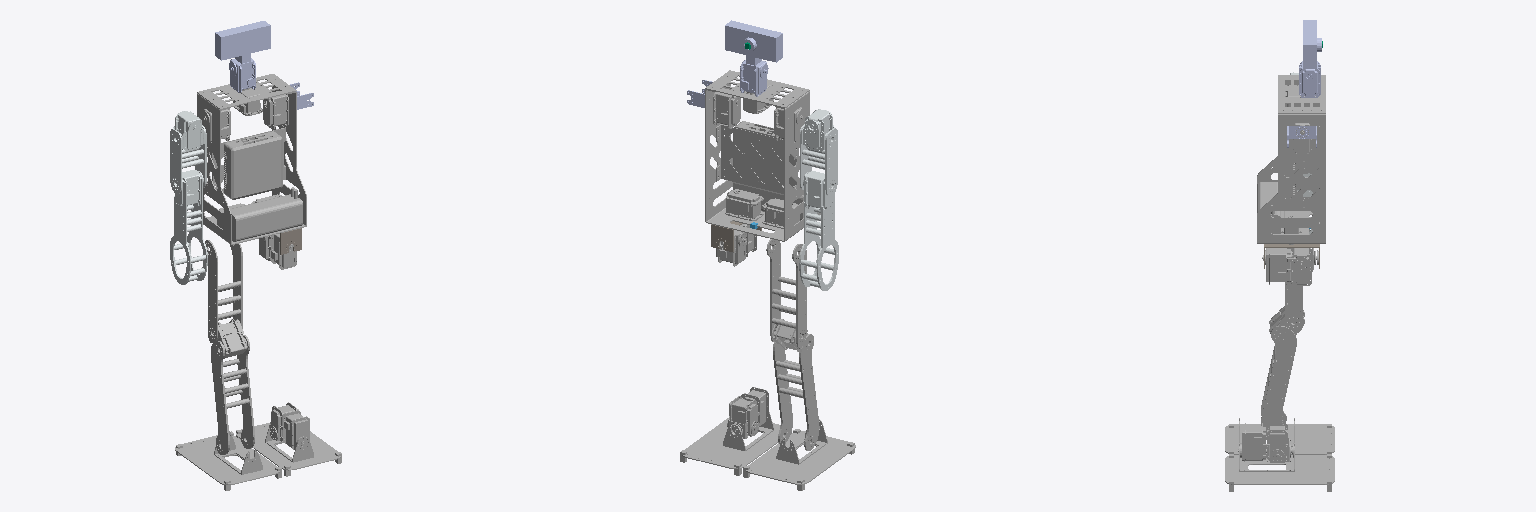
--- Render facts (derived) ---
3 views of the same robot in one strip: view 1: azimuth 30°, elevation 25°; view 2: azimuth 150°, elevation 25°; view 3: azimuth 270°, elevation 25° (orthographic).
Robot: SAKURA — 32 links, 31 joints (8 revolute, 20 continuous, 2 fixed, 1 floating); root link world; default pose: every joint at zero.
Links seen in each view (by area): view 1: TRUNK, LLEG2, LLEG3, LARM2, LFOOT, LARM1, RFOOT, HEAD1, RLEG4, RLEG1, HEAD0; view 2: TRUNK, LFOOT, LARM2, LLEG3, LLEG2, RFOOT, LARM1, HEAD1, RLEG4, RLEG1, HEAD0, RLEG0; view 3: TRUNK, RFOOT, LLEG3, LFOOT, RLEG4, RLEG1, LLEG2, HEAD1, HEAD0.
Link boxes in pixels (x1=…): TRUNK: x1=197, y1=74, x2=306, y2=244; LLEG2: x1=205, y1=240, x2=247, y2=358; LLEG3: x1=211, y1=335, x2=254, y2=454; LARM2: x1=170, y1=170, x2=207, y2=284; LFOOT: x1=175, y1=431, x2=279, y2=484; LARM1: x1=170, y1=111, x2=206, y2=193; RFOOT: x1=236, y1=422, x2=340, y2=470; HEAD1: x1=215, y1=21, x2=270, y2=63; RLEG4: x1=270, y1=402, x2=309, y2=449; RLEG1: x1=259, y1=234, x2=296, y2=269; HEAD0: x1=229, y1=58, x2=255, y2=92; TRUNK: x1=705, y1=70, x2=820, y2=241; LFOOT: x1=746, y1=419, x2=855, y2=484; LARM2: x1=799, y1=171, x2=838, y2=290; LLEG3: x1=773, y1=334, x2=819, y2=450; LLEG2: x1=766, y1=239, x2=808, y2=351; RFOOT: x1=682, y1=412, x2=791, y2=468; LARM1: x1=800, y1=109, x2=837, y2=196; HEAD1: x1=725, y1=20, x2=782, y2=65; RLEG4: x1=727, y1=387, x2=768, y2=438; RLEG1: x1=716, y1=224, x2=756, y2=266; HEAD0: x1=740, y1=60, x2=768, y2=96; RLEG0: x1=711, y1=221, x2=761, y2=251; TRUNK: x1=1257, y1=75, x2=1325, y2=244; RFOOT: x1=1225, y1=443, x2=1334, y2=484; LLEG3: x1=1261, y1=314, x2=1296, y2=435; LFOOT: x1=1225, y1=418, x2=1334, y2=454; RLEG4: x1=1238, y1=423, x2=1293, y2=462; RLEG1: x1=1262, y1=248, x2=1318, y2=285; LLEG2: x1=1269, y1=229, x2=1309, y2=337; HEAD1: x1=1303, y1=20, x2=1321, y2=68; HEAD0: x1=1299, y1=61, x2=1320, y2=97.
Bounding box of the posed robot: 0.2935 × 0.208 × 0.8933 m (x, y, z).
13 mesh visuals loaded from 21 distinct referenced files (13 binary STL); not drawn: 8 (reference not matched to a file when rendering).

URDF robot description (SAKURA):
<?xml version="1.0"?>
<robot
  name="SAKURA">	
    <!-- camera -->
  <gazebo reference="camera_link">
    <sensor type="camera" name="camera">
      <update_rate>30.0</update_rate>
      <camera name="head">
        <horizontal_fov>1.3962634</horizontal_fov>
        <image>
          <width>800</width>
          <height>800</height>
          <format>R8G8B8</format>
        </image>
        <clip>
          <near>0.02</near>
          <far>300</far>
        </clip>
        <noise>
          <type>gaussian</type>
          <!-- Noise is sampled independently per pixel on each frame.
               That pixel's noise value is added to each of its color
               channels, which at that point lie in the range [0,1]. -->
          <mean>0.0</mean>
          <stddev>0.007</stddev>
        </noise>
      </camera>
      <plugin name="camera_controller" filename="libgazebo_ros_camera.so">
        <alwaysOn>true</alwaysOn>
        <updateRate>0.0</updateRate>
        <cameraName>humanoid/camera</cameraName>
        <imageTopicName>image_raw</imageTopicName>
        <cameraInfoTopicName>camera_info</cameraInfoTopicName>
        <frameName>camera_link</frameName>
        <hackBaseline>0.07</hackBaseline>
        <distortionK1>0.0</distortionK1>
        <distortionK2>0.0</distortionK2>
        <distortionK3>0.0</distortionK3>
        <distortionT1>0.0</distortionT1>
        <distortionT2>0.0</distortionT2>
      </plugin>
    </sensor>
  </gazebo>
  
  <gazebo reference="imu_link">
    <gravity>true</gravity>
    <sensor name="imu_sensor" type="imu">
      <always_on>true</always_on>
      <update_rate>125</update_rate>
      <visualize>true</visualize>
      <topic>__default_topic__</topic>
      <plugin filename="libgazebo_ros_imu_sensor.so" name="imu_plugin">
        <topicName>imu/data_raw</topicName>
        <bodyName>imu_link</bodyName>
        <updateRateHZ>125.0</updateRateHZ>
        <gaussianNoise>0.0</gaussianNoise>
        <xyzOffset>0 0 0</xyzOffset>
        <rpyOffset>0 0 0</rpyOffset>
        <frameName>imu_link</frameName>
      </plugin>
      <pose>0 0 0 0 0 0</pose>
    </sensor>
  </gazebo>
  <gazebo>
    <plugin filename="libgazebo_ros_control.so" name="gazebo_ros_control">
      <robotNamespace>/SAKURA</robotNamespace>
      <robotSimType>gazebo_ros_control/DefaultRobotHWSim</robotSimType>
    </plugin>
  </gazebo>
<gazebo reference="J_HEAD0">
	<stopErp>0.2</stopErp>
  </gazebo>  
  <gazebo reference="J_HEAD1">
	<stopErp>0.2</stopErp>
  </gazebo>  
  <gazebo reference="J_LARM0">
	<stopErp>0.2</stopErp>
  </gazebo>  
  <gazebo reference="J_LARM1">
	<stopErp>0.2</stopErp>
  </gazebo>  
  <gazebo reference="J_LARM2">
	<stopErp>0.2</stopErp>
  </gazebo>  
  <gazebo reference="J_RARM0">
	<stopErp>0.2</stopErp>
  </gazebo>  
  <gazebo reference="J_RARM1">
	<stopErp>0.2</stopErp>
  </gazebo>  
  <gazebo reference="J_LLEG0">
	<stopErp>0.2</stopErp>
	<provideFeedback>true</provideFeedback>
  </gazebo>  
  <gazebo reference="J_LLEG1">
	<stopErp>0.2</stopErp>
	<provideFeedback>true</provideFeedback>
  </gazebo>  
  <gazebo reference="J_LLEG2">
	<stopErp>0.2</stopErp>
	<provideFeedback>true</provideFeedback>
  </gazebo>  
  <gazebo reference="J_LLEG3">
	<stopErp>0.2</stopErp>
	<provideFeedback>true</provideFeedback>
  </gazebo>  
  <gazebo reference="J_LLEG4">
	<stopErp>0.2</stopErp>
	<provideFeedback>true</provideFeedback>
  </gazebo>  
  <gazebo reference="J_RLEG0">
	<stopErp>0.2</stopErp>
	<provideFeedback>true</provideFeedback>
  </gazebo>  
  <gazebo reference="J_RLEG1">
	<stopErp>0.2</stopErp>
	<provideFeedback>true</provideFeedback>
  </gazebo>  
  <gazebo reference="J_RLEG2">
	<stopErp>0.2</stopErp>
	<provideFeedback>true</provideFeedback>
  </gazebo>  
  <gazebo reference="J_RLEG3">
	<stopErp>0.2</stopErp>
	<provideFeedback>true</provideFeedback>
  </gazebo>  
  <gazebo reference="J_RLEG4">
	<stopErp>0.2</stopErp>
	<provideFeedback>true</provideFeedback>
  </gazebo> 
  <gazebo reference="J_RARM2">
	<stopErp>0.2</stopErp>
	<provideFeedback>true</provideFeedback>
  </gazebo> 
  <gazebo reference="J_LFOOT">
	<stopErp>0.2</stopErp>
	<provideFeedback>true</provideFeedback>
  </gazebo>  
  <gazebo reference="J_RFOOT">
	<stopErp>0.2</stopErp>
	<provideFeedback>true</provideFeedback>
  </gazebo>  
  <gazebo reference="J_RFOOT_SENSOR0">
	<provideFeedback>true</provideFeedback>
  </gazebo>  
  <gazebo reference="J_RFOOT_SENSOR1">
	<provideFeedback>true</provideFeedback>
  </gazebo>
  <gazebo reference="J_RFOOT_SENSOR2">
	<provideFeedback>true</provideFeedback>
  </gazebo>
  <gazebo reference="J_RFOOT_SENSOR3">
	<provideFeedback>true</provideFeedback>
  </gazebo>
  <gazebo reference="J_LFOOT_SENSOR0">
	<provideFeedback>true</provideFeedback>
  </gazebo>  
  <gazebo reference="J_LFOOT_SENSOR1">
	<provideFeedback>true</provideFeedback>
  </gazebo>
  <gazebo reference="J_LFOOT_SENSOR2">
	<provideFeedback>true</provideFeedback>
  </gazebo>
  <gazebo reference="J_LFOOT_SENSOR3">
	<provideFeedback>true</provideFeedback>
  </gazebo>
  <gazebo reference="TRUNK">
    <mu1>1.0</mu1>
    <mu2>1.0</mu2>
    <kp>1220000.0</kp>
    <kd>1.0</kd> <!---->
  </gazebo>
  <gazebo reference="RFOOT">
    <mu1>1.0</mu1>
    <mu2>1.0</mu2>
    <kp>1220000.0</kp>
    <kd>1.0</kd> <!---->
  </gazebo>
  <gazebo reference="LFOOT">
    <mu1>1.0</mu1>
    <mu2>1.0</mu2>
    <kp>1220000.0</kp>
    <kd>1.0</kd> <!---->
  </gazebo>  
<!-- FT SENSORS -->
<!--  <gazebo>
	<plugin name="ft_sensor" filename="libgazebo_ros_ft_sensor.so">
	  <updateRate>100.0</updateRate>
	  <topicName>ft_sensor_head0</topicName>
	  <jointName>J_HEAD0</jointName>
	</plugin>
  </gazebo>
  <gazebo>
	<plugin name="ft_sensor" filename="libgazebo_ros_ft_sensor.so">
	  <updateRate>100.0</updateRate>
	  <topicName>ft_sensor_head1</topicName>
	  <jointName>J_HEAD1</jointName>
	</plugin>
  </gazebo>

  <gazebo>
	<plugin name="ft_sensor" filename="libgazebo_ros_ft_sensor.so">
	  <updateRate>100.0</updateRate>
	  <topicName>ft_sensor_larm0</topicName>
	  <jointName>J_LARM0</jointName>
	</plugin>
  </gazebo>
  <gazebo>
	<plugin name="ft_sensor" filename="libgazebo_ros_ft_sensor.so">
	  <updateRate>100.0</updateRate>
	  <topicName>ft_sensor_larm1</topicName>
	  <jointName>J_LARM1</jointName>
	</plugin>
  </gazebo>
  <gazebo>
	<plugin name="ft_sensor" filename="libgazebo_ros_ft_sensor.so">
	  <updateRate>100.0</updateRate>
	  <topicName>ft_sensor_larm2</topicName>
	  <jointName>J_LARM2</jointName>
	</plugin>
  </gazebo>
  
  
    <gazebo>
	<plugin name="ft_sensor" filename="libgazebo_ros_ft_sensor.so">
	  <updateRate>100.0</updateRate>
	  <topicName>ft_sensor_rarm0</topicName>
	  <jointName>J_RARM0</jointName>
	</plugin>
  </gazebo>
  <gazebo>
	<plugin name="ft_sensor" filename="libgazebo_ros_ft_sensor.so">
	  <updateRate>100.0</updateRate>
	  <topicName>ft_sensor_rarm1</topicName>
	  <jointName>J_RARM1</jointName>
	</plugin>
  </gazebo>
  <gazebo>
	<plugin name="ft_sensor" filename="libgazebo_ros_ft_sensor.so">
	  <updateRate>100.0</updateRate>
	  <topicName>ft_sensor_rarm2</topicName>
	  <jointName>J_RARM2</jointName>
	</plugin>
  </gazebo>
  
  
  
  <gazebo>
	<plugin name="ft_sensor" filename="libgazebo_ros_ft_sensor.so">
	  <updateRate>100.0</updateRate>
	  <topicName>ft_sensor_lleg0</topicName>
	  <jointName>J_LLEG0</jointName>
	</plugin>
  </gazebo>
    <gazebo>
	<plugin name="ft_sensor" filename="libgazebo_ros_ft_sensor.so">
	  <updateRate>100.0</updateRate>
	  <topicName>ft_sensor_lleg1</topicName>
	  <jointName>J_LLEG1</jointName>
	</plugin>
  </gazebo>
    <gazebo>
	<plugin name="ft_sensor" filename="libgazebo_ros_ft_sensor.so">
	  <updateRate>100.0</updateRate>
	  <topicName>ft_sensor_lleg2</topicName>
	  <jointName>J_LLEG2</jointName>
	</plugin>
  </gazebo>
    <gazebo>
	<plugin name="ft_sensor" filename="libgazebo_ros_ft_sensor.so">
	  <updateRate>100.0</updateRate>
	  <topicName>ft_sensor_lleg3</topicName>
	  <jointName>J_LLEG3</jointName>
	</plugin>
  </gazebo>
    <gazebo>
	<plugin name="ft_sensor" filename="libgazebo_ros_ft_sensor.so">
	  <updateRate>100.0</updateRate>
	  <topicName>ft_sensor_lleg4</topicName>
	  <jointName>J_LLEG4</jointName>
	</plugin>
  </gazebo>
    <gazebo>
	<plugin name="ft_sensor" filename="libgazebo_ros_ft_sensor.so">
	  <updateRate>100.0</updateRate>
	  <topicName>ft_sensor_lfoot</topicName>
	  <jointName>J_LFOOT</jointName>
	</plugin>
  </gazebo>
  
    <gazebo>
	<plugin name="ft_sensor" filename="libgazebo_ros_ft_sensor.so">
	  <updateRate>100.0</updateRate>
	  <topicName>ft_sensor_rleg0</topicName>
	  <jointName>J_RLEG0</jointName>
	</plugin>
  </gazebo>
    <gazebo>
	<plugin name="ft_sensor" filename="libgazebo_ros_ft_sensor.so">
	  <updateRate>100.0</updateRate>
	  <topicName>ft_sensor_rleg1</topicName>
	  <jointName>J_RLEG1</jointName>
	</plugin>
  </gazebo>
    <gazebo>
	<plugin name="ft_sensor" filename="libgazebo_ros_ft_sensor.so">
	  <updateRate>100.0</updateRate>
	  <topicName>ft_sensor_rleg2</topicName>
	  <jointName>J_RLEG2</jointName>
	</plugin>
  </gazebo>
    <gazebo>
	<plugin name="ft_sensor" filename="libgazebo_ros_ft_sensor.so">
	  <updateRate>100.0</updateRate>
	  <topicName>ft_sensor_rleg3</topicName>
	  <jointName>J_RLEG3</jointName>
	</plugin>
  </gazebo>
    <gazebo>
	<plugin name="ft_sensor" filename="libgazebo_ros_ft_sensor.so">
	  <updateRate>100.0</updateRate>
	  <topicName>ft_sensor_rleg4</topicName>
	  <jointName>J_RLEG4</jointName>
	</plugin>
  </gazebo>
    <gazebo>
	<plugin name="ft_sensor" filename="libgazebo_ros_ft_sensor.so">
	  <updateRate>100.0</updateRate>
	  <topicName>ft_sensor_rfoot</topicName>
	  <jointName>J_RFOOT</jointName>
	</plugin>
  </gazebo>
  
  -->
  
  <gazebo>
	<plugin name="ft_sensor" filename="libgazebo_ros_ft_sensor.so">
	  <updateRate>500.0</updateRate>
	  <topicName>ft_sensor_rSensor0</topicName>
	  <jointName>J_RFOOT_SENSOR0</jointName>
	</plugin>
	<plugin name="ft_sensor" filename="libgazebo_ros_ft_sensor.so">
	  <updateRate>500.0</updateRate>
	  <topicName>ft_sensor_rSensor1</topicName>
	  <jointName>J_RFOOT_SENSOR1</jointName>
	</plugin>
	<plugin name="ft_sensor" filename="libgazebo_ros_ft_sensor.so">
	  <updateRate>500.0</updateRate>
	  <topicName>ft_sensor_rSensor2</topicName>
	  <jointName>J_RFOOT_SENSOR2</jointName>
	</plugin>
	<plugin name="ft_sensor" filename="libgazebo_ros_ft_sensor.so">
	  <updateRate>500.0</updateRate>
	  <topicName>ft_sensor_rSensor3</topicName>
	  <jointName>J_RFOOT_SENSOR3</jointName>
	</plugin>
	<plugin name="ft_sensor" filename="libgazebo_ros_ft_sensor.so">
	  <updateRate>500.0</updateRate>
	  <topicName>ft_sensor_lSensor0</topicName>
	  <jointName>J_LFOOT_SENSOR0</jointName>
	</plugin>
	<plugin name="ft_sensor" filename="libgazebo_ros_ft_sensor.so">
	  <updateRate>500.0</updateRate>
	  <topicName>ft_sensor_lSensor1</topicName>
	  <jointName>J_LFOOT_SENSOR1</jointName>
	</plugin>
	<plugin name="ft_sensor" filename="libgazebo_ros_ft_sensor.so">
	  <updateRate>500.0</updateRate>
	  <topicName>ft_sensor_lSensor2</topicName>
	  <jointName>J_LFOOT_SENSOR2</jointName>
	</plugin>
	<plugin name="ft_sensor" filename="libgazebo_ros_ft_sensor.so">
	  <updateRate>500.0</updateRate>
	  <topicName>ft_sensor_lSensor3</topicName>
	  <jointName>J_LFOOT_SENSOR3</jointName>
	</plugin>
	<plugin name="ft_sensor" filename="libgazebo_ros_ft_sensor.so">
	  <updateRate>125.0</updateRate>
	  <topicName>ft_sensor_rleg3</topicName>
	  <jointName>J_RLEG3</jointName>
	</plugin>
	<plugin name="ft_sensor" filename="libgazebo_ros_ft_sensor.so">
	  <updateRate>125.0</updateRate>
	  <topicName>ft_sensor_lleg3</topicName>
	  <jointName>J_LLEG3</jointName>
	</plugin>
	
	<plugin name="ft_sensor" filename="libgazebo_ros_ft_sensor.so">
	  <updateRate>125.0</updateRate>
	  <topicName>ft_sensor_rleg4</topicName>
	  <jointName>J_RLEG4</jointName>
	</plugin>
	<plugin name="ft_sensor" filename="libgazebo_ros_ft_sensor.so">
	  <updateRate>125.0</updateRate>
	  <topicName>ft_sensor_lleg4</topicName>
	  <jointName>J_LLEG4</jointName>
	</plugin>
	
		<plugin name="ft_sensor" filename="libgazebo_ros_ft_sensor.so">
	  <updateRate>125.0</updateRate>
	  <topicName>ft_sensor_rfoot</topicName>
	  <jointName>J_RFOOT</jointName>
	</plugin>
	<plugin name="ft_sensor" filename="libgazebo_ros_ft_sensor.so">
	  <updateRate>125.0</updateRate>
	  <topicName>ft_sensor_lfoot</topicName>
	  <jointName>J_LFOOT</jointName>
	</plugin>
  </gazebo>
  

  <link name="world">  </link>
  
  <link name="imu_link">
    <collision>
      <origin xyz="0 0 0" rpy="0 0 0"/>
      <geometry>
    <box size="0.01 0.01 0.01"/>
      </geometry>
    </collision>

    <visual>
      <origin xyz="0 0 0" rpy="0 0 0"/>
      <geometry>
    <box size="0.01 0.01 0.01"/>
      </geometry>

    </visual>

    <inertial>
      <mass value="1e-3" />
      <origin xyz="0 0 0" rpy="0 0 0"/>
      <inertia ixx="1e-3" ixy="0" ixz="0" iyy="1e-3" iyz="0" izz="1e-3" />
    </inertial>
  </link>
  <joint name="imu_joint" type="fixed">
    <axis xyz="-1 0 0" />
    <origin xyz="0 0 0" rpy="0 0 0"/>
    <parent link="TRUNK"/>
    <child link="imu_link"/>
  </joint>
  
  
   <!-- Camera -->
  <link name="camera_link">
    <visual>
      <origin xyz="0 0 0" rpy="0 0 0"/>
      <geometry>
    <box size="0.01 0.01 0.01"/>
      </geometry>

    </visual>

    <inertial>
      <mass value="1e-3" />
      <origin xyz="0 0 0" rpy="0 0 0"/>
      <inertia ixx="1e-3" ixy="0" ixz="0" iyy="1e-3" iyz="0" izz="1e-3" />
    </inertial>
  </link>
  
  <joint name="camera_joint" type="fixed">
    <axis xyz="0 0 1" />
    <origin xyz="0.02 0.055 0.00" rpy="-1.5707 0 0"/>
    <parent link="HEAD1"/>
    <child link="camera_link"/>
  </joint>

  
  
  
  <link
    name="TRUNK">
    <inertial>
      <origin
        xyz="-0.000142944293532541 -0.0159940135836359 0.119253638413231"
        rpy="0 0 0" />
      <mass
        value="1.4778155091901" />
      <inertia
        ixx="0.0125398154437975"
        ixy="0"
        ixz="0"
        iyy="0.016695640033345"
        iyz="0.000776177026664091"
        izz="0.01567882258573842" />
    </inertial>
    <visual>
      <origin
        xyz="0 0 0"
        rpy="0 0 0" />
      <geometry>
        <mesh
          filename="package://sakura_description/meshes/TRUNK.STL" />
      </geometry>
      <material
        name="">
        <color
          rgba="0.752941176470588 0.752941176470588 0.752941176470588 1" />
      </material>
    </visual>
  </link>
  <joint name="fixed" type="floating">
    <parent link="world"/>
    <child link="TRUNK"/>
    <origin xyz="0 0 0.50" rpy="0 0 0"/>
  </joint>
  <link
    name="HEAD0">
    <inertial>
      <origin
        xyz="0 -0.00045169 0.0273"
        rpy="0 0 0" />
      <mass
        value="0.072495" />
      <inertia ixx="1e-3" ixy="0" ixz="0" iyy="1e-3" iyz="0" izz="1e-3" />
    </inertial>
    <visual>
      <origin
        xyz="0 0 0"
        rpy="0 0 0" />
      <geometry>
        <mesh
          filename="package://sakura_description/meshes/HEAD0.STL" />
      </geometry>
      <material
        name="">
        <color
          rgba="0.79216 0.81961 0.93333 1" />
      </material>
    </visual>
  </link>
  <link
    name="HEAD1">
    <inertial>
      <origin
        xyz="0.000492167176094648 0.0499545659310894 0"
        rpy="0 0 0" />
      <mass
        value="0.160467558648652" />
      <inertia ixx="1e-3" ixy="0" ixz="0" iyy="1e-3" iyz="0" izz="1e-3" />
    </inertial>
    <visual>
      <origin
        xyz="0 0 0"
        rpy="0 0 0" />
      <geometry>
        <mesh
          filename="package://sakura_description/meshes/HEAD1.STL" />
      </geometry>
      <material
        name="">
        <color
          rgba="0.792156862745098 0.819607843137255 0.933333333333333 1" />
      </material>
    </visual>
  </link>

  
  <joint
    name="J_HEAD0"
    type="continuous">
    <origin
      xyz="0 0.002 0.2785"
      rpy="0 0 -1.5708" />
    <parent
      link="TRUNK" />
    <child
      link="HEAD0" />
    <axis
      xyz="0 0 1" />
    <limit
      effort="10"
      velocity="8.58" />
    <dynamics 
	  damping="0.7"
	  friction="0.5"/>
  </joint>
  
  <joint
    name="J_HEAD1"
    type="continuous">
    <origin
      xyz="0 -0.0005 0.0425"
      rpy="1.5708 0 3.1416" />
    <parent
      link="HEAD0" />
    <child
      link="HEAD1" />
    <axis
      xyz="0 0 -1" />
    <limit
      effort="10"
      velocity="8.58" />
    <dynamics 
	  damping="0.7"
	  friction="0.5"/>
  </joint>
  
  <link
    name="LARM0">
    <inertial>
      <origin
        xyz="0 0 0.0103025666414173"
        rpy="0 0 0" />
      <mass
        value="0.0066175226097181" />
      <inertia
        ixx="1.E-03"
        ixy="0"
        ixz="0"
        iyy="1.E-03"
        iyz="0"
        izz="1.E-03" />
    </inertial>
    <visual>
      <origin
        xyz="0 0 0"
        rpy="0 0 0" />
      <geometry>
        <mesh
          filename="package://sakura_description/meshes/LARM0.STL" />
      </geometry>
      <material
        name="">
        <color
          rgba="0.792156862745098 0.819607843137255 0.933333333333333 1" />
      </material>
    </visual>
  </link>
  <joint
    name="J_LARM0"
    type="continuous">
    <origin
      xyz="-0.094 -0.0125 0.237"
      rpy="1.5708 3.14159 -1.5708" />
    <parent
      link="TRUNK" />
    <child
      link="LARM0" />
    <axis
      xyz="0 0 1" />
    <limit
      effort="10"
      velocity="8.58" />
    <dynamics 
     damping="0.7"
     friction="0.5"/>
  </joint>
  <link
    name="LARM1">
    <inertial>
      <origin
        xyz="-0.000203905909046856 -0.0358166170046635 -0.030724518771744"
        rpy="0 0 0" />
      <mass
        value="0.386889741732442" />
      <inertia
        ixx="0.001319462933467775"
        ixy="0"
        ixz="0"
        iyy="0.001"
        iyz="0"
        izz="0.001386423060557297" />
    </inertial>
    <visual>
      <origin
        xyz="0 0 0"
        rpy="0 0 0" />
      <geometry>
        <mesh
          filename="package://sakura_description/meshes/LARM1.STL" />
      </geometry>
      <material
        name="">
        <color
          rgba="0.898039215686275 0.92156862745098 0.929411764705882 1" />
      </material>
    </visual>
  </link>
  <joint
    name="J_LARM1"
    type="continuous">
    <origin
      xyz="-0.0308 0 0.036"
      rpy="3.1416 1.5708 0" />
    <parent
      link="LARM0" />
    <child
      link="LARM1" />
    <axis
      xyz="0 0 -1" />
    <limit
      effort="10"
      velocity="8.58" />
        <dynamics 
     damping="0.7"
     friction="0.5"/>
  </joint>
  <link
    name="LARM2">
    <inertial>
      <origin
        xyz="-0.000946892853796732 -0.0604743903550126 -0.030549305382329"
        rpy="0 0 0" />
      <mass
        value="0.417770884687889" />
      <inertia
        ixx="0.00130365609096481"
        ixy="0"
        ixz="0"
        iyy="0.001"
        iyz="0"
        izz="0.00130522583526536" />
    </inertial>
    <visual>
      <origin
        xyz="0 0 0"
        rpy="0 0 0" />
      <geometry>
        <mesh
          filename="package://sakura_description/meshes/LARM2.STL" />
      </geometry>
      <material
        name="">
        <color
          rgba="0.898039215686275 0.92156862745098 0.929411764705882 1" />
      </material>
    </visual>
  </link>
  <joint
    name="J_LARM2"
    type="continuous">
    <origin
      xyz="0.0307 -0.1235 -0.0308"
      rpy="0 1.5708 0" />
    <parent
      link="LARM1" />
    <child
      link="LARM2" />
    <axis
      xyz="0 0 -1" />
    <limit
      effort="10"
      velocity="8.58" />
        <dynamics 
     damping="0.7"
     friction="0.5"/>
  </joint>
  <link
    name="RARM0">
    <inertial>
      <origin
        xyz="0 0 0.0103025666414173"
        rpy="0 0 0" />
      <mass
        value="0.00661752260971814" />
      <inertia
        ixx="1.E-03"
        ixy="0"
        ixz="0"
        iyy="1.E-03"
        iyz="0"
        izz="1.E-03" />
    </inertial>
    <visual>
      <origin
        xyz="0 0 0"
        rpy="0 0 0" />
      <geometry>
        <mesh
          filename="package://sakura_description/meshes/RARM0.STL" />
      </geometry>
      <material
        name="">
        <color
          rgba="0.792156862745098 0.819607843137255 0.933333333333333 1" />
      </material>
    </visual>
  </link>
  <joint
    name="J_RARM0"
    type="continuous">
    <origin
      xyz="0.094 -0.0125 0.237"
      rpy="-1.5708 0 -1.5708" />
    <parent
      link="TRUNK" />
    <child
      link="RARM0" />
    <axis
      xyz="0 0 1" />
    <limit
      effort="10"
      velocity="8.58" />
        <dynamics 
     damping="0.7"
     friction="0.5"/>
  </joint>
  <link
    name="RARM1">
    <inertial>
      <origin
        xyz="-0.00020391 -0.035817 -0.030725"
        rpy="0 0 0" />
      <mass
        value="0.38689" />
      <inertia
        ixx="0.00131946"
        ixy="0"
        ixz="0"
        iyy="0.001"
        iyz="0"
        izz="0.00138642" />
    </inertial>
    <visual>
      <origin
        xyz="0 0 0"
        rpy="0 0 0" />
      <geometry>
        <mesh
          filename="package://sakura_description/meshes/RARM1.STL" />
      </geometry>
      <material
        name="">
        <color
          rgba="0.89804 0.92157 0.92941 1" />
      </material>
    </visual>
  </link>
  <joint
    name="J_RARM1"
    type="continuous">
    <origin
      xyz="-0.0308 0 0.036"
      rpy="3.1416 1.5708 0" />
    <parent
      link="RARM0" />
    <child
      link="RARM1" />
    <axis
      xyz="0 0 1" />
    <limit
      effort="10"
      velocity="8.58" />
        <dynamics 
     damping="0.7"
     friction="0.5"/>
  </joint>
  <link
    name="RARM2">
    <inertial>
      <origin
        xyz="-0.000946892853796774 -0.0604743903550127 -0.0305493053823289"
        rpy="0 0 0" />
      <mass
        value="0.417770884687889" />
      <inertia
        ixx="0.00130365609096481"
        ixy="0"
        ixz="0"
        iyy="0.001"
        iyz="0"
        izz="0.00130522583526536" />
    </inertial>
    <visual>
      <origin
        xyz="0 0 0"
        rpy="0 0 0" />
      <geometry>
        <mesh
          filename="package://sakura_description/meshes/RARM2.STL" />
      </geometry>
      <material
        name="">
        <color
          rgba="0.898039215686275 0.92156862745098 0.929411764705882 1" />
      </material>
    </visual>
  </link>
  <joint
    name="J_RARM2"
    type="continuous">
    <origin
      xyz="0.0307 -0.1235 -0.0308"
      rpy="0 1.5708 0" />
    <parent
      link="RARM1" />
    <child
      link="RARM2" />
    <axis
      xyz="0 0 -1" />
    <limit
      effort="10"
      velocity="8.58" />
        <dynamics 
     damping="0.7"
     friction="0.5"/>
  </joint>
  <link
    name="LLEG0">
    <inertial>
      <origin
        xyz="0 0 0.012339611662812"
        rpy="0 0 0" />
      <mass
        value="0.137487098095279" />
      <inertia
        ixx="0.001"
        ixy="0"
        ixz="0"
        iyy="0.001"
        iyz="0"
        izz="0.001" />
    </inertial>
    <visual>
      <origin
        xyz="0 0 0"
        rpy="0 0 0" />
      <geometry>
        <mesh
          filename="package://sakura_description/meshes/LLEG0.STL" />
      </geometry>
      <material
        name="">
        <color
          rgba="0.650980392156863 0.619607843137255 0.588235294117647 1" />
      </material>
    </visual>
  </link>
  <joint
    name="J_LLEG0"
    type="continuous">
    <origin
      xyz="-0.057 -0.0325 -0.005"
      rpy="-3.14159265358979 0 -1.5707963267949" />
    <parent
      link="TRUNK" />
    <child
      link="LLEG0" />
    <axis
      xyz="0 0 1" />
    <limit
      effort="10"
      velocity="8.58" />
        <dynamics 
     damping="0.7"
     friction="0.5"/>
  </joint>
  <link
    name="LLEG1">
    <inertial>
      <origin
        xyz="0 -0.014933566350856 -0.0542307430726147"
        rpy="0 0 0" />
      <mass
        value="0.484317524341268" />
      <inertia
        ixx="0.001258532465487086"
        ixy="0"
        ixz="0"
        iyy="0.001256538006237082"
        iyz="0"
        izz="0.001" />
    </inertial>
    <visual>
      <origin
        xyz="0 0 0"
        rpy="0 0 0" />
      <geometry>
        <mesh
          filename="package://sakura_description/meshes/LLEG1.STL" />
      </geometry>
      <material
        name="">
        <color
          rgba="0.752941176470588 0.752941176470588 0.752941176470588 1" />
      </material>
    </visual>
  </link>
  <joint
    name="J_LLEG1"
    type="continuous">
    <origin
      xyz="0.056 0 0.036"
      rpy="-1.5707963267949 0 -1.5707963267949" />
    <parent
      link="LLEG0" />
    <child
      link="LLEG1" />
    <axis
      xyz="0 0 -1" />
    <limit
      effort="10"
      velocity="8.58" />
        <dynamics 
     damping="0.7"
     friction="0.5"/>
  </joint>
  <link
    name="LLEG2">
    <inertial>
      <origin
        xyz="0.0896135033902749 -0.121669815792639 -0.0285739776731877"
        rpy="0 0 0" />
      <mass
        value="0.429581814867276" />
      <inertia
        ixx="0.001739443276879588"
        ixy="0.000469298592224479"
        ixz="0"
        iyy="0.00145781924000273"
        iyz="0"
        izz="0.00100793675092908" />
    </inertial>
    <visual>
      <origin
        xyz="0 0 0"
        rpy="0 0 0" />
      <geometry>
        <mesh
          filename="package://sakura_description/meshes/LLEG2.STL" />
      </geometry>
      <material
        name="">
        <color
          rgba="0.752941176470588 0.752941176470588 0.752941176470588 1" />
      </material>
    </visual>
  </link>
  <joint
    name="J_LLEG2"
    type="continuous">
    <origin
      xyz="0.0289999999999999 0 -0.0750000000000234"
      rpy="-1.5707963267949 0.78539816339745 -1.5707963267949" />
    <parent
      link="LLEG1" />
    <child
      link="LLEG2" />
    <axis
      xyz="0 0 1" />
    <limit
      effort="10"
      velocity="8.58" />
        <dynamics 
     damping="0.7"
     friction="0.5"/>
  </joint>
  <link
    name="LLEG3">
    <inertial>
      <origin
        xyz="0.0938607247050214 0.021121469241447 -0.0266864244548486"
        rpy="0 0 0" />
      <mass
        value="0.253457988874213" />
      <inertia
        ixx="0.001157893827081503"
        ixy="0"
        ixz="0"
        iyy="0.001215254509125973"
        iyz="0"
        izz="0.001" />
    </inertial>
    <visual>
      <origin
        xyz="0 0 0"
        rpy="0 0 0" />
      <geometry>
        <mesh
          filename="package://sakura_description/meshes/LLEG3.STL" />
      </geometry>
      <material
        name="">
        <color
          rgba="0.752941176470588 0.752941176470588 0.752941176470588 1" />
      </material>
    </visual>
  </link>
  <joint
    name="J_LLEG3"
    type="continuous">
    <origin
      xyz="0.112429978208667 -0.169643181644254 0.00160000000000024"
      rpy="-0.0320557226319531 0.0283578707512148 -1.01721646459287" />
    <parent
      link="LLEG2" />
    <child
      link="LLEG3" />
    <axis
      xyz="-0.0283540701513945 -0.0320373469653184 0.999084408398647" />
    <limit
      effort="10"
      velocity="8.58" />
        <dynamics 
     damping="0.7"
     friction="0.5"/>  
  </joint>
  <link
    name="LLEG4">
    <inertial>
      <origin
        xyz="0.0207692569273853 -0.0149335663508559 -0.0309509783436903"
        rpy="0 0 0" />
      <mass
        value="0.484317524341267" />
      <inertia
        ixx="0.001"
        ixy="0"
        ixz="0"
        iyy="0.001256538006237082"
        iyz="0"
        izz="0.001258532465487085" />
    </inertial>
    <visual>
      <origin
        xyz="0 0 0"
        rpy="0 0 0" />
      <geometry>
        <mesh
          filename="package://sakura_description/meshes/LLEG4.STL" />
      </geometry>
      <material
        name="">
        <color
          rgba="0.752941176470588 0.752941176470588 0.752941176470588 1" />
      </material>
    </visual>
  </link>
  <joint
    name="J_LLEG4"
    type="continuous">
    <origin
      xyz="0.19759 0.040682 0.007913"
      rpy="0.034963 0.024684 -1.339" />
    <parent
      link="LLEG3" />
    <child
      link="LLEG4" />
    <axis
      xyz="0 0 -1" />
    <limit
      effort="10"
      velocity="8.58" />
        <dynamics 
     damping="0.7"
     friction="0.5"/>
  </joint>
  <link
    name="LFOOT">
    <inertial>
      <origin
        xyz="-0.00984398078216434 0.033081446163245 0.0742424926896279"
        rpy="0 0 0" />
      <mass
        value="0.474832547151362" />
      <inertia
        ixx="0.001"
        ixy="0"
        ixz="0"
        iyy="0.001"
        iyz="0"
        izz="0.001" />
    </inertial>
    <visual>
      <origin
        xyz="0 0 0"
        rpy="0 0 0" />
      <geometry>
        <mesh
          filename="package://sakura_description/meshes/LFOOT.STL" />
      </geometry>
      <material
        name="">
        <color
          rgba="0.752941176470588 0.752941176470588 0.752941176470588 1" />
      </material>
    </visual>
    <collision>
      <origin
        xyz="-0.01 0.021 0.078"
        rpy="0 0 0" />
        <geometry>
          <box size="0.13 0.03 0.208"/>
        </geometry>
    </collision>
  </link>
  <joint
    name="J_LFOOT"
    type="continuous">
    <origin
      xyz="0.072 0 -0.031"
      rpy="0 -1.5708 0" />
    <parent
      link="LLEG4" />
    <child
      link="LFOOT" />
    <axis
      xyz="0 0 -1" />
    <limit
      effort="10"
      velocity="8.58" />
        <dynamics 
     damping="0.7"
     friction="0.5"/>
  </joint>
  <link
    name="RLEG0">
    <inertial>
      <origin
        xyz="0 0 0.012339611662812"
        rpy="0 0 0" />
      <mass
        value="0.137487098095279" />
      <inertia
        ixx="0.001"
        ixy="0"
        ixz="0"
        iyy="0.001"
        iyz="0"
        izz="0.001" />
    </inertial>
    <visual>
      <origin
        xyz="0 0 0"
        rpy="0 0 0" />
      <geometry>
        <mesh
          filename="package://sakura_description/meshes/RLEG0.STL" />
      </geometry>
      <material
        name="">
        <color
          rgba="0.650980392156863 0.619607843137255 0.588235294117647 1" />
      </material>
    </visual>
  </link>
  <joint
    name="J_RLEG0"
    type="continuous">
    <origin
      xyz="0.057 -0.0325 -0.005"
      rpy="-3.14159265358979 0 -1.5707963267949" />
    <parent
      link="TRUNK" />
    <child
      link="RLEG0" />
    <axis
      xyz="0 0 1" />
    <limit
      effort="10"
      velocity="8.58" />
        <dynamics 
     damping="0.7"
     friction="0.5"/>
  </joint>
  <link
    name="RLEG1">
    <inertial>
      <origin
        xyz="0 -0.014934 -0.054231"
        rpy="0 0 0" />
      <mass
        value="0.48432" />
      <inertia
        ixx="0.00125853"
        ixy="0"
        ixz="0"
        iyy="0.00125654"
        iyz="0"
        izz="0.001" />
    </inertial>
    <visual>
      <origin
        xyz="0 0 0"
        rpy="0 0 0" />
      <geometry>
        <mesh
          filename="package://sakura_description/meshes/RLEG1.STL" />
      </geometry>
      <material
        name="">
        <color
          rgba="0.75294 0.75294 0.75294 1" />
      </material>
    </visual>
  </link>
  <joint
    name="J_RLEG1"
    type="continuous">
    <origin
      xyz="0.056 0 0.036"
      rpy="-1.5707963267949 0 -1.5707963267949" />
    <parent
      link="RLEG0" />
    <child
      link="RLEG1" />
    <axis
      xyz="0 0 -1" />
    <limit
      effort="10"
      velocity="8.58" />
        <dynamics 
     damping="0.7"
     friction="0.5"/>
  </joint>
  <link
    name="RLEG2">
    <inertial>
      <origin
        xyz="0.089613503390275 -0.121669815792639 -0.0285739776731877"
        rpy="0 0 0" />
      <mass
        value="0.429581814867276" />
      <inertia
        ixx="0.001739443276879589"
        ixy="0.00046929859222448"
        ixz="0"
        iyy="0.001457819240002731"
        iyz="0"
        izz="0.00100793675092908" />
    </inertial>
    <visual>
      <origin
        xyz="0 0 0"
        rpy="0 0 0" />
      <geometry>
        <mesh
          filename="package://sakura_description/meshes/RLEG2.STL" />
      </geometry>
      <material
        name="">
        <color
          rgba="0.752941176470588 0.752941176470588 0.752941176470588 1" />
      </material>
    </visual>
  </link>
  <joint
    name="J_RLEG2"
    type="continuous">
    <origin
      xyz="0.0290000000000001 0 -0.075"
      rpy="-1.5707963267949 0.78539816339745 -1.5707963267949" />
    <parent
      link="RLEG1" />
    <child
      link="RLEG2" />
    <axis
      xyz="0 0 -1" />
    <limit
      effort="10"
      velocity="8.58" />
        <dynamics 
     damping="0.7"
     friction="0.5"/>
  </joint>
  <link
    name="RLEG3">
    <inertial>
      <origin
        xyz="0.093861 0.021121 -0.026686"
        rpy="0 0 0" />
      <mass
        value="0.25346" />
      <inertia
        ixx="0.00115789"
        ixy="0"
        ixz="0"
        iyy="0.00121525"
        iyz="0"
        izz="0.001" />
    </inertial>
    <visual>
      <origin
        xyz="0 0 0"
        rpy="0 0 0" />
      <geometry>
        <mesh
          filename="package://sakura_description/meshes/RLEG3.STL" />
      </geometry>
      <material
        name="">
        <color
          rgba="0.75294 0.75294 0.75294 1" />
      </material>
    </visual>
  </link>
  <joint
    name="J_RLEG3"
    type="continuous">
    <origin
      xyz="0.112429978208668 -0.169643181644253 0.00160000000000014"
      rpy="-0.0320557226319534 0.0283578707512146 -1.01721646459286" />
    <parent
      link="RLEG2" />
    <child
      link="RLEG3" />
    <axis
      xyz="0.0283540701513948 0.0320373469653193 -0.999084408398647" />
    <limit
      effort="10"
      velocity="8.58" />
        <dynamics 
     damping="0.7"
     friction="0.5"/>
  </joint>
  <link
    name="RLEG4">
    <inertial>
      <origin
        xyz="0.0207692569273853 -0.014933566350856 -0.0309509783436903"
        rpy="0 0 0" />
      <mass
        value="0.484317524341268" />
      <inertia
        ixx="0.001"
        ixy="0"
        ixz="0"
        iyy="0.001256538006237082"
        iyz="0"
        izz="0.001258532465487085" />
    </inertial>
    <visual>
      <origin
        xyz="0 0 0"
        rpy="0 0 0" />
      <geometry>
        <mesh
          filename="package://sakura_description/meshes/RLEG4.STL" />
      </geometry>
      <material
        name="">
        <color
          rgba="0.752941176470588 0.752941176470588 0.752941176470588 1" />
      </material>
    </visual>
  </link>
  <joint
    name="J_RLEG4"
    type="continuous">
    <origin
      xyz="0.19759 0.040682 0.007913"
      rpy="0.034963 0.024684 -1.339" />
    <parent
      link="RLEG3" />
    <child
      link="RLEG4" />
    <axis
      xyz="0 0 1" />
    <limit
      effort="10"
      velocity="8.58" />
        <dynamics 
     damping="0.7"
     friction="0.5"/>
  </joint>
  <link
    name="RFOOT">
    <inertial>
      <origin
        xyz="0.009844 0.033081 0.074242"
        rpy="0 0 0" />
      <mass
        value="0.47483" />
      <inertia
        ixx="0.001"
        ixy="0"
        ixz="0"
        iyy="0.001"
        iyz="0"
        izz="0.001" />
    </inertial>
    <visual>
      <origin
        xyz="0 0 0"
        rpy="0 0 0" />
      <geometry>
        <mesh
          filename="package://sakura_description/meshes/RFOOT.STL" />
      </geometry>
      <material
        name="">
        <color
          rgba="0.75294 0.75294 0.75294 1" />
      </material>
    </visual>
    <collision>
      <origin
        xyz="0.01 0.021 0.078"
        rpy="0 0 0" />
        <geometry>
          <box size="0.13 0.03 0.208"/>
        </geometry>
    </collision>
  </link>
  <joint
    name="J_RFOOT"
    type="continuous">
    <origin
      xyz="0.072 0 -0.031"
      rpy="0 -1.5708 0" />
    <parent
      link="RLEG4" />
    <child
      link="RFOOT" />
    <axis
      xyz="0 0 -1" />
    <limit
      effort="10"
      velocity="8.58" />
        <dynamics 
     damping="0.7"
     friction="0.5"/>
  </joint>
  <link
    name="RFOOT_SENSOR0">
    <inertial>
      <origin
        xyz="0 0 0"
        rpy="0 0 0" />
      <mass
        value="0.01" />
      <inertia
        ixx="0.001"
        ixy="0"
        ixz="0"
        iyy="0.001"
        iyz="0"
        izz="0.001" />
    </inertial>
    <visual>
      <origin
        xyz="-0.045 0.04 -0.015"
        rpy="0 0 0" />
        <geometry>
          <box size="0.01 0.02 0.01"/>
        </geometry>
      <material
        name="">
        <color
          rgba="0.75294 0.75294 0.75294 1" />
      </material>
    </visual>
    <collision>
      <origin
        xyz="-0.045 0.04 -0.015"
        rpy="0 0 0" />
        <geometry>
          <box size="0.01 0.02 0.01"/>
        </geometry>
    </collision>
  </link>
  <joint
    name="J_RFOOT_SENSOR0"
    type="revolute">
    <origin
      xyz="0 0 0"
      rpy="0 0 0" />
    <parent
      link="RFOOT" />
    <child
      link="RFOOT_SENSOR0" />
    <axis
      xyz="0 0 1" />
    <limit upper="0" lower="0" velocity="100" effort="1"/>
  </joint>
  <link
    name="RFOOT_SENSOR1">
    <inertial>
      <origin
        xyz="0 0 0"
        rpy="0 0 0" />
      <mass
        value="0.01" />
      <inertia
        ixx="0.001"
        ixy="0"
        ixz="0"
        iyy="0.001"
        iyz="0"
        izz="0.001" />
    </inertial>
    <visual>
      <origin
        xyz="0.070 0.04 -0.015"
        rpy="0 0 0" />
        <geometry>
          <box size="0.01 0.02 0.01"/>
        </geometry>
      <material
        name="">
        <color
          rgba="0.75294 0.75294 0.75294 1" />
      </material>
    </visual>
    <collision>
      <origin
        xyz="0.070 0.04 -0.015"
        rpy="0 0 0" />
        <geometry>
          <box size="0.01 0.02 0.01"/>
        </geometry>
    </collision>
  </link>
  <joint
    name="J_RFOOT_SENSOR1"
    type="revolute">
    <origin
      xyz="0 0 0"
      rpy="0 0 0" />
    <parent
      link="RFOOT" />
    <child
      link="RFOOT_SENSOR1" />
    <axis
      xyz="0 0 1" />
    <limit upper="0" lower="0" velocity="100" effort="1"/>
  </joint>
  <link
    name="RFOOT_SENSOR2">
    <inertial>
      <origin
        xyz="0 0 0"
        rpy="0 0 0" />
      <mass
        value="0.01" />
      <inertia
        ixx="0.001"
        ixy="0"
        ixz="0"
        iyy="0.001"
        iyz="0"
        izz="0.001" />
    </inertial>
    <visual>
      <origin
        xyz="0.070 0.04 0.17"
        rpy="0 0 0" />
        <geometry>
          <box size="0.01 0.02 0.01"/>
        </geometry>
      <material
        name="">
        <color
          rgba="0.75294 0.75294 0.75294 1" />
      </material>
    </visual>
    <collision>
      <origin
        xyz="0.070 0.04 0.17"
        rpy="0 0 0" />
        <geometry>
          <box size="0.01 0.02 0.01"/>
        </geometry>
    </collision>
  </link>
  <joint
    name="J_RFOOT_SENSOR2"
    type="revolute">
    <origin
      xyz="0 0 0"
      rpy="0 0 0" />
    <parent
      link="RFOOT" />
    <child
      link="RFOOT_SENSOR2" />
    <axis
      xyz="0 0 1" />
    <limit upper="0" lower="0" velocity="100" effort="1"/>
  </joint>
  <link
    name="RFOOT_SENSOR3">
    <inertial>
      <origin
        xyz="0 0 0"
        rpy="0 0 0" />
      <mass
        value="0.01" />
      <inertia
        ixx="0.001"
        ixy="0"
        ixz="0"
        iyy="0.001"
        iyz="0"
        izz="0.001" />
    </inertial>
    <visual>
      <origin
        xyz="-0.045 0.04 0.17"
        rpy="0 0 0" />
        <geometry>
          <box size="0.01 0.02 0.01"/>
        </geometry>
      <material
        name="">
        <color
          rgba="0.75294 0.75294 0.75294 1" />
      </material>
    </visual>
    <collision>
      <origin
        xyz="-0.045 0.04 0.17"
        rpy="0 0 0" />
        <geometry>
          <box size="0.01 0.02 0.01"/>
        </geometry>
    </collision>
  </link>
  <joint
    name="J_RFOOT_SENSOR3"
    type="revolute">
    <origin
      xyz="0 0 0"
      rpy="0 0 0" />
    <parent
      link="RFOOT" />
    <child
      link="RFOOT_SENSOR3" />
    <axis
      xyz="0 0 1" />
    <limit upper="0" lower="0" velocity="100" effort="1"/>
  </joint>
  <link
    name="LFOOT_SENSOR0">
    <inertial>
      <origin
        xyz="0 0 0"
        rpy="0 0 0" />
      <mass
        value="0.01" />
      <inertia
        ixx="0.001"
        ixy="0"
        ixz="0"
        iyy="0.001"
        iyz="0"
        izz="0.001" />
    </inertial>
    <visual>
      <origin
        xyz="-0.065 0.04 -0.015"
        rpy="0 0 0" />
        <geometry>
          <box size="0.01 0.02 0.01"/>
        </geometry>
      <material
        name="">
        <color
          rgba="0.75294 0.75294 0.75294 1" />
      </material>
    </visual>
    <collision>
      <origin
        xyz="-0.065 0.04 -0.015"
        rpy="0 0 0" />
        <geometry>
          <box size="0.01 0.02 0.01"/>
        </geometry>
    </collision>
  </link>
  <joint
    name="J_LFOOT_SENSOR0"
    type="revolute">
    <origin
      xyz="0 0 0"
      rpy="0 0 0" />
    <parent
      link="LFOOT" />
    <child
      link="LFOOT_SENSOR0" />
    <axis
      xyz="0 0 1" />
    <limit upper="0" lower="0" velocity="100" effort="1"/>
  </joint>
  <link
    name="LFOOT_SENSOR1">
    <inertial>
      <origin
        xyz="0 0 0"
        rpy="0 0 0" />
      <mass
        value="0.01" />
      <inertia
        ixx="0.001"
        ixy="0"
        ixz="0"
        iyy="0.001"
        iyz="0"
        izz="0.001" />
    </inertial>
    <visual>
      <origin
        xyz="0.050 0.04 -0.015"
        rpy="0 0 0" />
        <geometry>
          <box size="0.01 0.02 0.01"/>
        </geometry>
      <material
        name="">
        <color
          rgba="0.75294 0.75294 0.75294 1" />
      </material>
    </visual>
    <collision>
      <origin
        xyz="0.050 0.04 -0.015"
        rpy="0 0 0" />
        <geometry>
          <box size="0.01 0.02 0.01"/>
        </geometry>
    </collision>
  </link>
  <joint
    name="J_LFOOT_SENSOR1"
    type="revolute">
    <origin
      xyz="0 0 0"
      rpy="0 0 0" />
    <parent
      link="LFOOT" />
    <child
      link="LFOOT_SENSOR1" />
    <axis
      xyz="0 0 1" />
    <limit upper="0" lower="0" velocity="100" effort="1"/>
  </joint>
  <link
    name="LFOOT_SENSOR2">
    <inertial>
      <origin
        xyz="0 0 0"
        rpy="0 0 0" />
      <mass
        value="0.01" />
      <inertia
        ixx="0.001"
        ixy="0"
        ixz="0"
        iyy="0.001"
        iyz="0"
        izz="0.001" />
    </inertial>
    <visual>
      <origin
        xyz="0.050 0.04 0.17"
        rpy="0 0 0" />
        <geometry>
          <box size="0.01 0.02 0.01"/>
        </geometry>
      <material
        name="">
        <color
          rgba="0.75294 0.75294 0.75294 1" />
      </material>
    </visual>
    <collision>
      <origin
        xyz="0.050 0.04 0.17"
        rpy="0 0 0" />
        <geometry>
          <box size="0.01 0.02 0.01"/>
        </geometry>
    </collision>
  </link>
  <joint
    name="J_LFOOT_SENSOR2"
    type="revolute">
    <origin
      xyz="0 0 0"
      rpy="0 0 0" />
    <parent
      link="LFOOT" />
    <child
      link="LFOOT_SENSOR2" />
    <axis
      xyz="0 0 1" />
    <limit upper="0" lower="0" velocity="100" effort="1"/>
  </joint>
  <link
    name="LFOOT_SENSOR3">
    <inertial>
      <origin
        xyz="0 0 0"
        rpy="0 0 0" />
      <mass
        value="0.01" />
      <inertia
        ixx="0.001"
        ixy="0"
        ixz="0"
        iyy="0.001"
        iyz="0"
        izz="0.001" />
    </inertial>
    <visual>
      <origin
        xyz="-0.065 0.04 0.17"
        rpy="0 0 0" />
        <geometry>
          <box size="0.01 0.02 0.01"/>
        </geometry>
      <material
        name="">
        <color
          rgba="0.75294 0.75294 0.75294 1" />
      </material>
    </visual>
    <collision>
      <origin
        xyz="-0.065 0.04 0.17"
        rpy="0 0 0" />
        <geometry>
          <box size="0.01 0.02 0.01"/>
        </geometry>
    </collision>
  </link>
  <joint
    name="J_LFOOT_SENSOR3"
    type="revolute">
    <origin
      xyz="0 0 0"
      rpy="0 0 0" />
    <parent
      link="LFOOT" />
    <child
      link="LFOOT_SENSOR3" />
	<axis>
		<xyz>0 0 1</xyz>
	</axis>
	<limit upper="0" lower="0" velocity="100" effort="1"/>
  </joint>

  <transmission name="T_HEAD0">
	<type>transmission_interface/SimpleTransmission</type>
	<joint name="J_HEAD0">
	  <hardwareInterface>hardware_interface/EffortJointInterface</hardwareInterface>
	</joint>
	<actuator name="M_HEAD0">
	  <hardwareInterface>hardware_interface/EffortJointInterface</hardwareInterface>
	  <mechanicalReduction>1</mechanicalReduction>
	</actuator>
  </transmission>
  
  <transmission name="T_HEAD1">
	<type>transmission_interface/SimpleTransmission</type>
	<joint name="J_HEAD1">
	  <hardwareInterface>hardware_interface/EffortJointInterface</hardwareInterface>
	</joint>
	<actuator name="M_HEAD1">
	  <hardwareInterface>hardware_interface/EffortJointInterface</hardwareInterface>
	  <mechanicalReduction>1</mechanicalReduction>
	</actuator>
  </transmission>
  
  <transmission name="T_RARM0">
	<type>transmission_interface/SimpleTransmission</type>
	<joint name="J_RARM0">
	  <hardwareInterface>hardware_interface/EffortJointInterface</hardwareInterface>
	</joint>
	<actuator name="M_RARM0">
	  <hardwareInterface>hardware_interface/EffortJointInterface</hardwareInterface>
	  <mechanicalReduction>1</mechanicalReduction>
	</actuator>
  </transmission>

  <transmission name="T_RARM1">
	<type>transmission_interface/SimpleTransmission</type>
	<joint name="J_RARM1">
	  <hardwareInterface>hardware_interface/EffortJointInterface</hardwareInterface>
	</joint>
	<actuator name="M_RARM1">
	  <hardwareInterface>hardware_interface/EffortJointInterface</hardwareInterface>
	  <mechanicalReduction>1</mechanicalReduction>
	</actuator>
  </transmission>
  
    <transmission name="T_RARM2">
	<type>transmission_interface/SimpleTransmission</type>
	<joint name="J_RARM2">
	  <hardwareInterface>hardware_interface/EffortJointInterface</hardwareInterface>
	</joint>
	<actuator name="M_RARM2">
	  <hardwareInterface>hardware_interface/EffortJointInterface</hardwareInterface>
	  <mechanicalReduction>1</mechanicalReduction>
	</actuator>
  </transmission>
  
    <transmission name="T_LARM0">
	<type>transmission_interface/SimpleTransmission</type>
	<joint name="J_LARM0">
	  <hardwareInterface>hardware_interface/EffortJointInterface</hardwareInterface>
	</joint>
	<actuator name="M_LARM0">
	  <hardwareInterface>hardware_interface/EffortJointInterface</hardwareInterface>
	  <mechanicalReduction>1</mechanicalReduction>
	</actuator>
  </transmission>

  <transmission name="T_LARM1">
	<type>transmission_interface/SimpleTransmission</type>
	<joint name="J_LARM1">
	  <hardwareInterface>hardware_interface/EffortJointInterface</hardwareInterface>
	</joint>
	<actuator name="M_LARM1">
	  <hardwareInterface>hardware_interface/EffortJointInterface</hardwareInterface>
	  <mechanicalReduction>1</mechanicalReduction>
	</actuator>
  </transmission>
  
    <transmission name="T_LARM2">
	<type>transmission_interface/SimpleTransmission</type>
	<joint name="J_LARM2">
	  <hardwareInterface>hardware_interface/EffortJointInterface</hardwareInterface>
	</joint>
	<actuator name="M_LARM2">
	  <hardwareInterface>hardware_interface/EffortJointInterface</hardwareInterface>
	  <mechanicalReduction>1</mechanicalReduction>
	</actuator>
  </transmission>

  
  
  
    <transmission name="T_RLEG0">
	<type>transmission_interface/SimpleTransmission</type>
	<joint name="J_RLEG0">
	  <hardwareInterface>hardware_interface/EffortJointInterface</hardwareInterface>
	</joint>
	<actuator name="M_RLEG0">
	  <hardwareInterface>hardware_interface/EffortJointInterface</hardwareInterface>
	  <mechanicalReduction>1</mechanicalReduction>
	</actuator>
  </transmission>

  <transmission name="T_RLEG1">
	<type>transmission_interface/SimpleTransmission</type>
	<joint name="J_RLEG1">
	  <hardwareInterface>hardware_interface/EffortJointInterface</hardwareInterface>
	</joint>
	<actuator name="M_RLEG1">
	  <hardwareInterface>hardware_interface/EffortJointInterface</hardwareInterface>
	  <mechanicalReduction>1</mechanicalReduction>
	</actuator>
  </transmission>
  
    <transmission name="T_RLEG2">
	<type>transmission_interface/SimpleTransmission</type>
	<joint name="J_RLEG2">
	  <hardwareInterface>hardware_interface/EffortJointInterface</hardwareInterface>
	</joint>
	<actuator name="M_RLEG2">
	  <hardwareInterface>hardware_interface/EffortJointInterface</hardwareInterface>
	  <mechanicalReduction>1</mechanicalReduction>
	</actuator>
  </transmission>
  
    <transmission name="T_RLEG3">
	<type>transmission_interface/SimpleTransmission</type>
	<joint name="J_RLEG3">
	  <hardwareInterface>hardware_interface/EffortJointInterface</hardwareInterface>
	</joint>
	<actuator name="M_RLEG3">
	  <hardwareInterface>hardware_interface/EffortJointInterface</hardwareInterface>
	  <mechanicalReduction>1</mechanicalReduction>
	</actuator>
  </transmission>
  
   <transmission name="T_RLEG4">
	<type>transmission_interface/SimpleTransmission</type>
	<joint name="J_RLEG4">
	  <hardwareInterface>hardware_interface/EffortJointInterface</hardwareInterface>
	</joint>
	<actuator name="M_RLEG4">
	  <hardwareInterface>hardware_interface/EffortJointInterface</hardwareInterface>
	  <mechanicalReduction>1</mechanicalReduction>
	</actuator>
  </transmission>
  
  <transmission name="T_RFOOT">
	<type>transmission_interface/SimpleTransmission</type>
	<joint name="J_RFOOT">
	  <hardwareInterface>hardware_interface/EffortJointInterface</hardwareInterface>
	</joint>
	<actuator name="M_RFOOT">
	  <hardwareInterface>hardware_interface/EffortJointInterface</hardwareInterface>
	  <mechanicalReduction>1</mechanicalReduction>
	</actuator>
  </transmission>


    <transmission name="T_LLEG0">
	<type>transmission_interface/SimpleTransmission</type>
	<joint name="J_LLEG0">
	  <hardwareInterface>hardware_interface/EffortJointInterface</hardwareInterface>
	</joint>
	<actuator name="M_LLEG0">
	  <hardwareInterface>hardware_interface/EffortJointInterface</hardwareInterface>
	  <mechanicalReduction>1</mechanicalReduction>
	</actuator>
  </transmission>

  <transmission name="T_LLEG1">
	<type>transmission_interface/SimpleTransmission</type>
	<joint name="J_LLEG1">
	  <hardwareInterface>hardware_interface/EffortJointInterface</hardwareInterface>
	</joint>
	<actuator name="M_LLEG1">
	  <hardwareInterface>hardware_interface/EffortJointInterface</hardwareInterface>
	  <mechanicalReduction>1</mechanicalReduction>
	</actuator>
  </transmission>
  
    <transmission name="T_LLEG2">
	<type>transmission_interface/SimpleTransmission</type>
	<joint name="J_LLEG2">
	  <hardwareInterface>hardware_interface/EffortJointInterface</hardwareInterface>
	</joint>
	<actuator name="M_LLEG2">
	  <hardwareInterface>hardware_interface/EffortJointInterface</hardwareInterface>
	  <mechanicalReduction>1</mechanicalReduction>
	</actuator>
  </transmission>
  
    <transmission name="T_LLEG3">
	<type>transmission_interface/SimpleTransmission</type>
	<joint name="J_LLEG3">
	  <hardwareInterface>hardware_interface/EffortJointInterface</hardwareInterface>
	</joint>
	<actuator name="M_LLEG3">
	  <hardwareInterface>hardware_interface/EffortJointInterface</hardwareInterface>
	  <mechanicalReduction>1</mechanicalReduction>
	</actuator>
  </transmission>
  
   <transmission name="T_LLEG4">
	<type>transmission_interface/SimpleTransmission</type>
	<joint name="J_LLEG4">
	  <hardwareInterface>hardware_interface/EffortJointInterface</hardwareInterface>
	</joint>
	<actuator name="M_LLEG4">
	  <hardwareInterface>hardware_interface/EffortJointInterface</hardwareInterface>
	  <mechanicalReduction>1</mechanicalReduction>
	</actuator>
  </transmission>
  
  <transmission name="T_LFOOT">
	<type>transmission_interface/SimpleTransmission</type>
	<joint name="J_LFOOT">
	  <hardwareInterface>hardware_interface/EffortJointInterface</hardwareInterface>
	</joint>
	<actuator name="M_LFOOT">
	  <hardwareInterface>hardware_interface/EffortJointInterface</hardwareInterface>
	  <mechanicalReduction>1</mechanicalReduction>
	</actuator>
  </transmission>



  
</robot>
